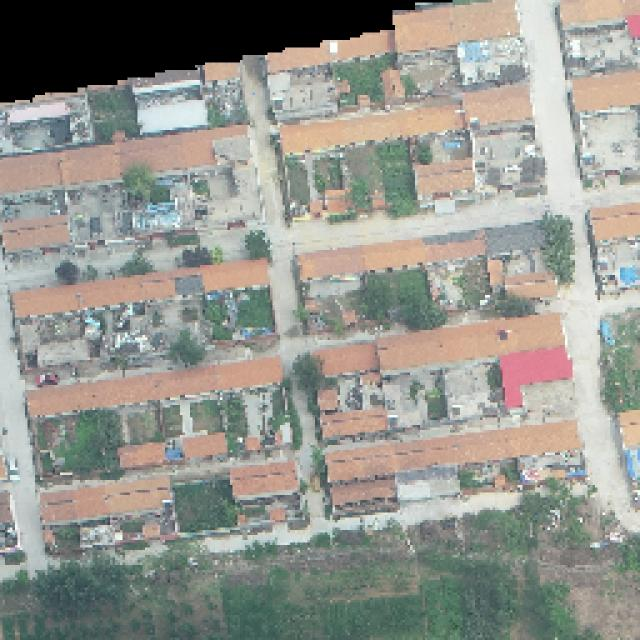Batiment: (283, 85, 530, 153), (1, 129, 248, 194), (29, 356, 282, 417), (329, 424, 579, 484), (14, 262, 268, 317), (379, 314, 562, 371), (300, 239, 485, 279), (396, 2, 517, 53), (42, 478, 171, 524), (268, 30, 395, 72), (500, 348, 572, 407), (452, 1, 518, 42), (574, 72, 640, 112), (232, 462, 298, 498), (2, 217, 69, 251), (416, 159, 472, 199), (561, 0, 640, 26), (314, 344, 378, 376), (593, 203, 640, 242), (322, 414, 388, 439), (331, 481, 396, 506), (119, 444, 165, 468), (184, 434, 226, 458), (619, 410, 640, 448), (593, 203, 640, 219), (204, 62, 239, 82), (318, 389, 339, 412)
